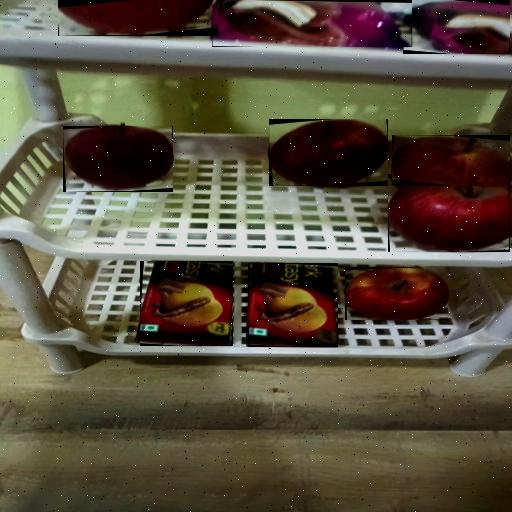Apple: (388, 174, 510, 252), (269, 119, 388, 186), (63, 126, 173, 192), (392, 135, 510, 185), (58, 0, 218, 36), (345, 267, 448, 320)
Choco Fills: (140, 261, 233, 346), (248, 263, 338, 347)
Choco Pie: (212, 0, 412, 47), (403, 0, 510, 54)
